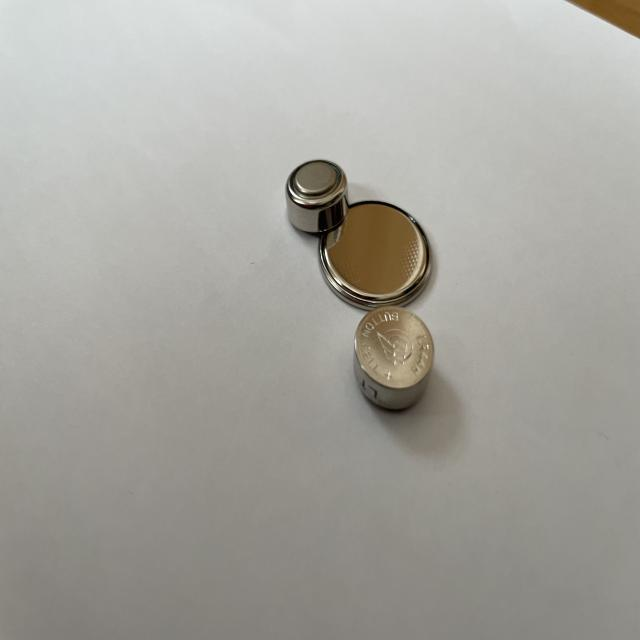COIN: (319, 200, 432, 314), (353, 308, 434, 412), (286, 160, 350, 232)
